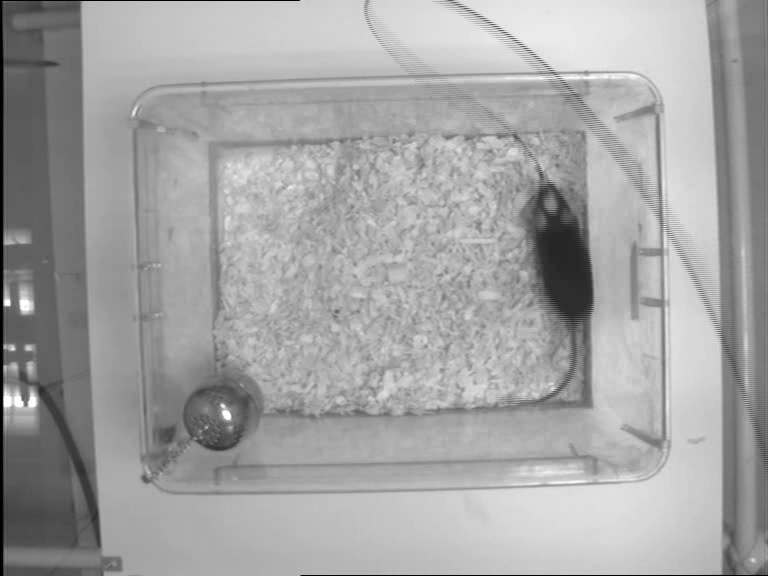mice: (498, 180, 593, 407)
